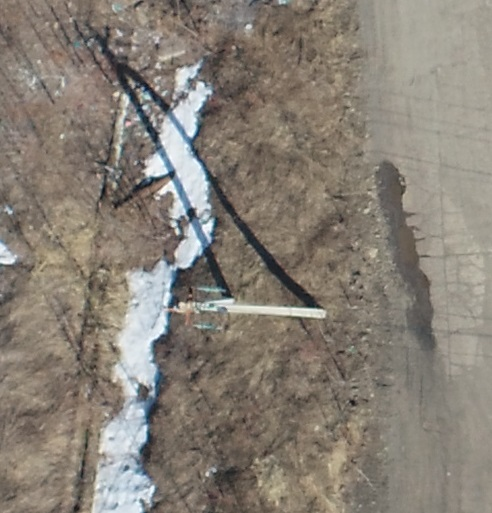opora: (162, 240, 328, 330)
